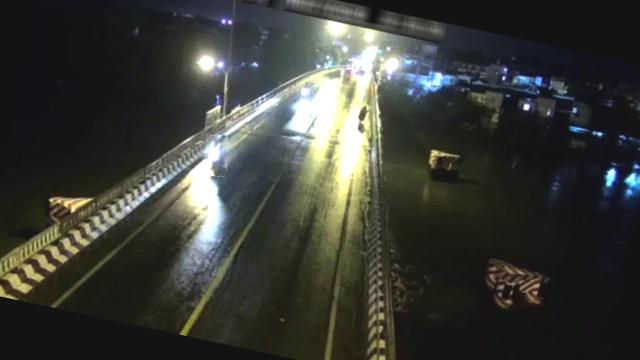Bike: (201, 133, 232, 179), (354, 104, 371, 125)
